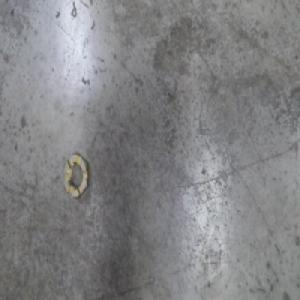Nut: (62, 153, 91, 201)
